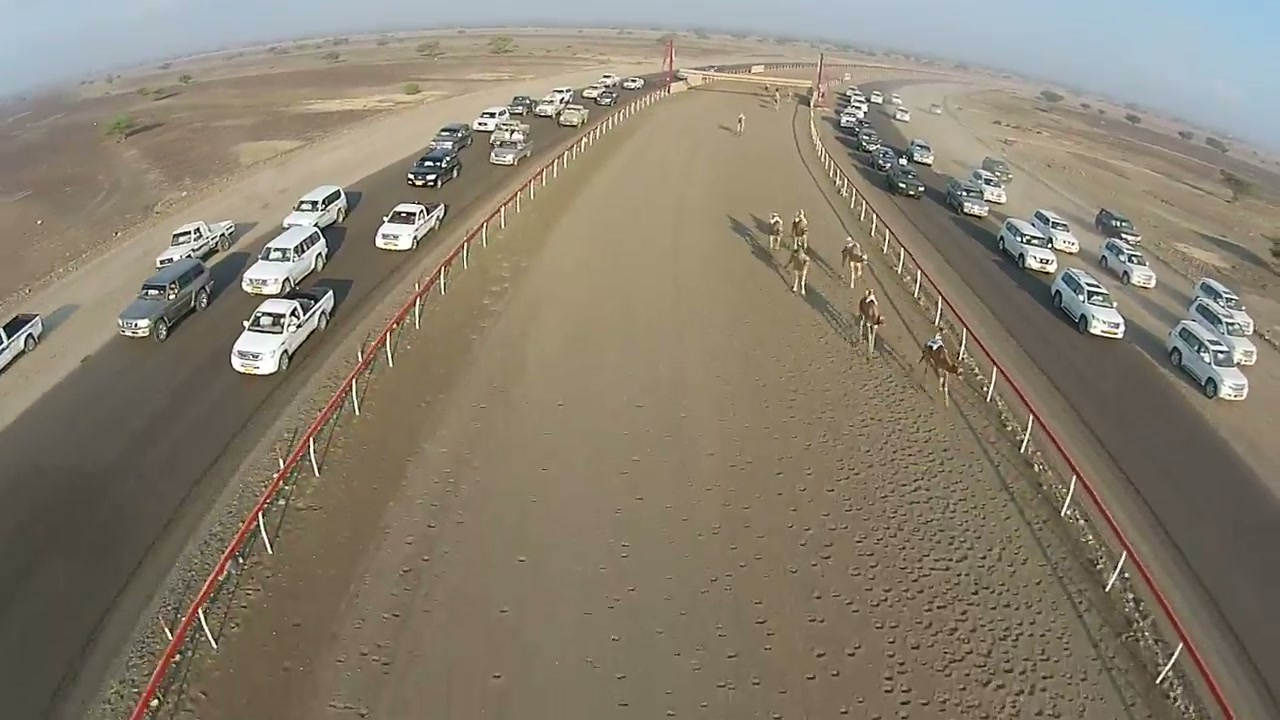animal_foot_print: (806, 331, 1108, 719)
